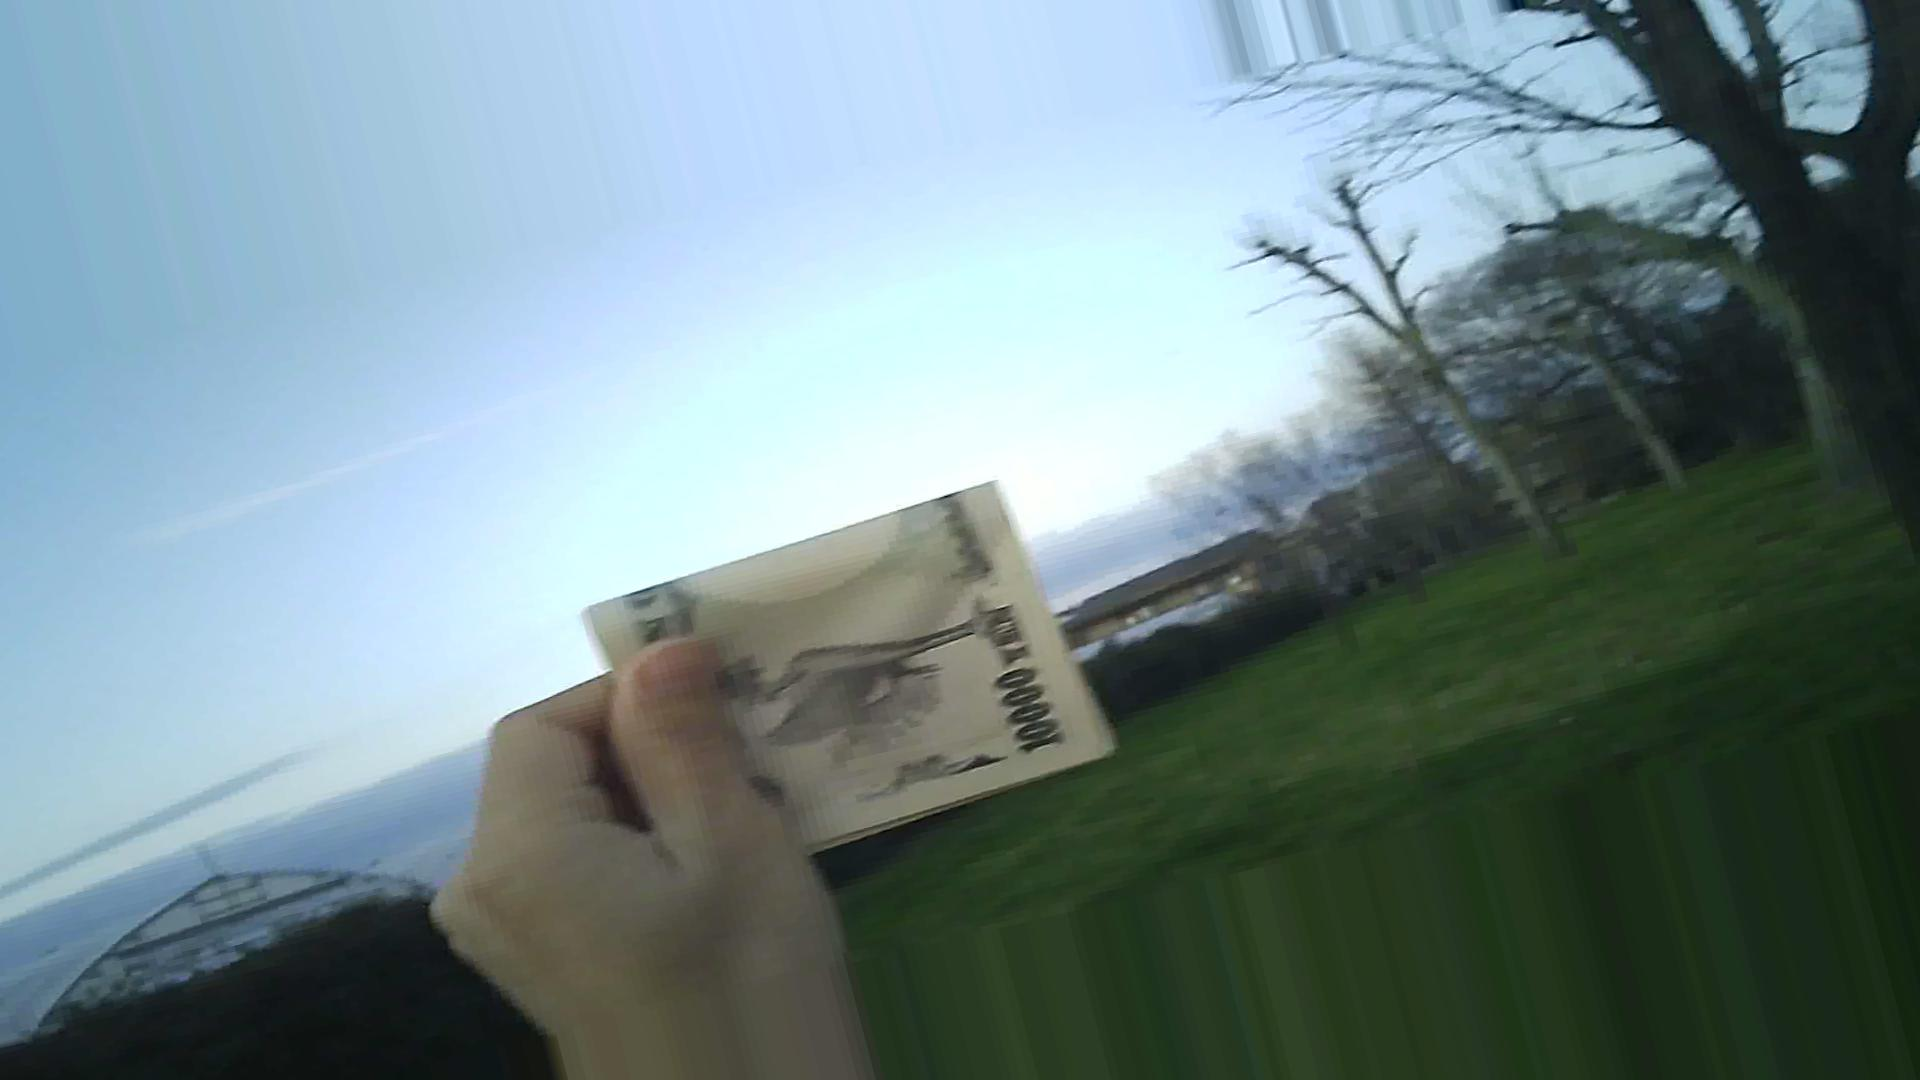10,000 Yen: (585, 488, 1142, 885)
